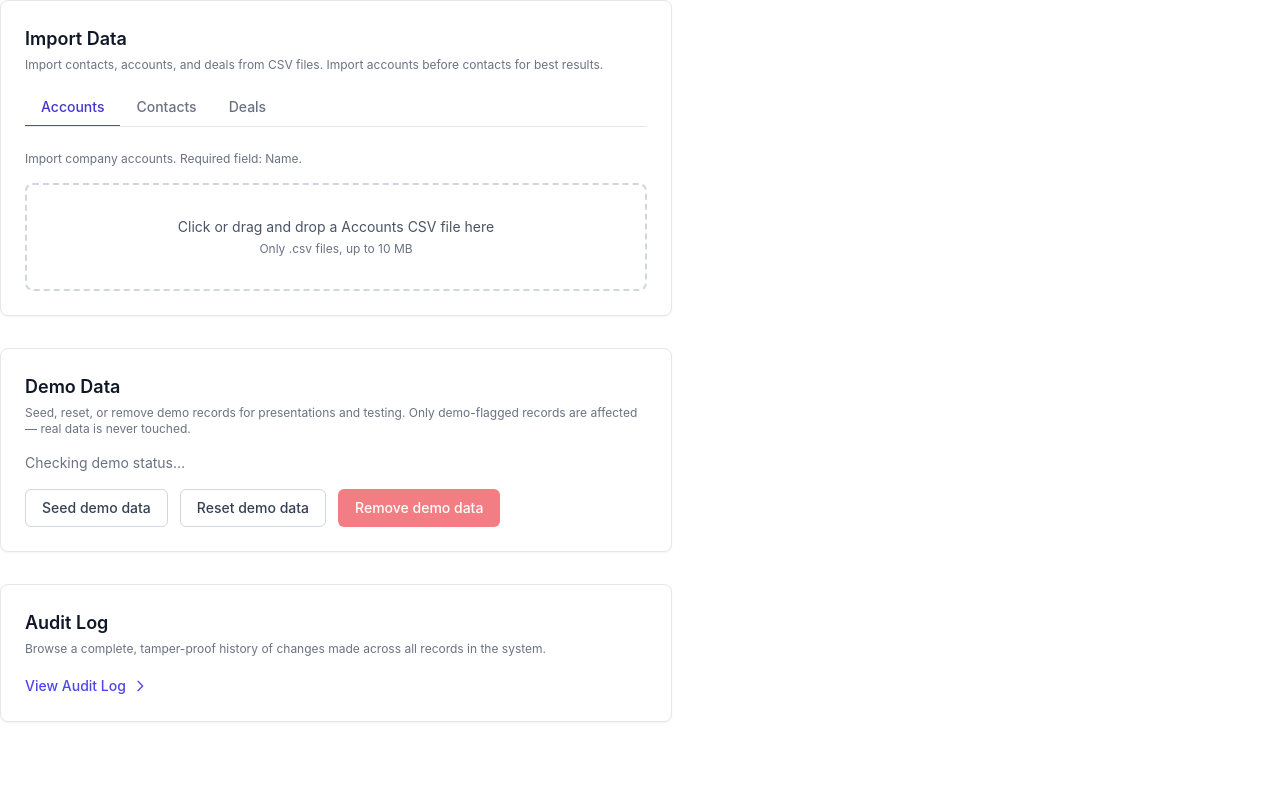
Test: DataSettings — demo data › opens confirm dialog when Seed is clicked
The width and height of the screenshot is (1280, 800).
Step 1. Click the button with test id "demo-seed-button" → (96, 508), box top-left (25, 489), bottom-right (168, 527)
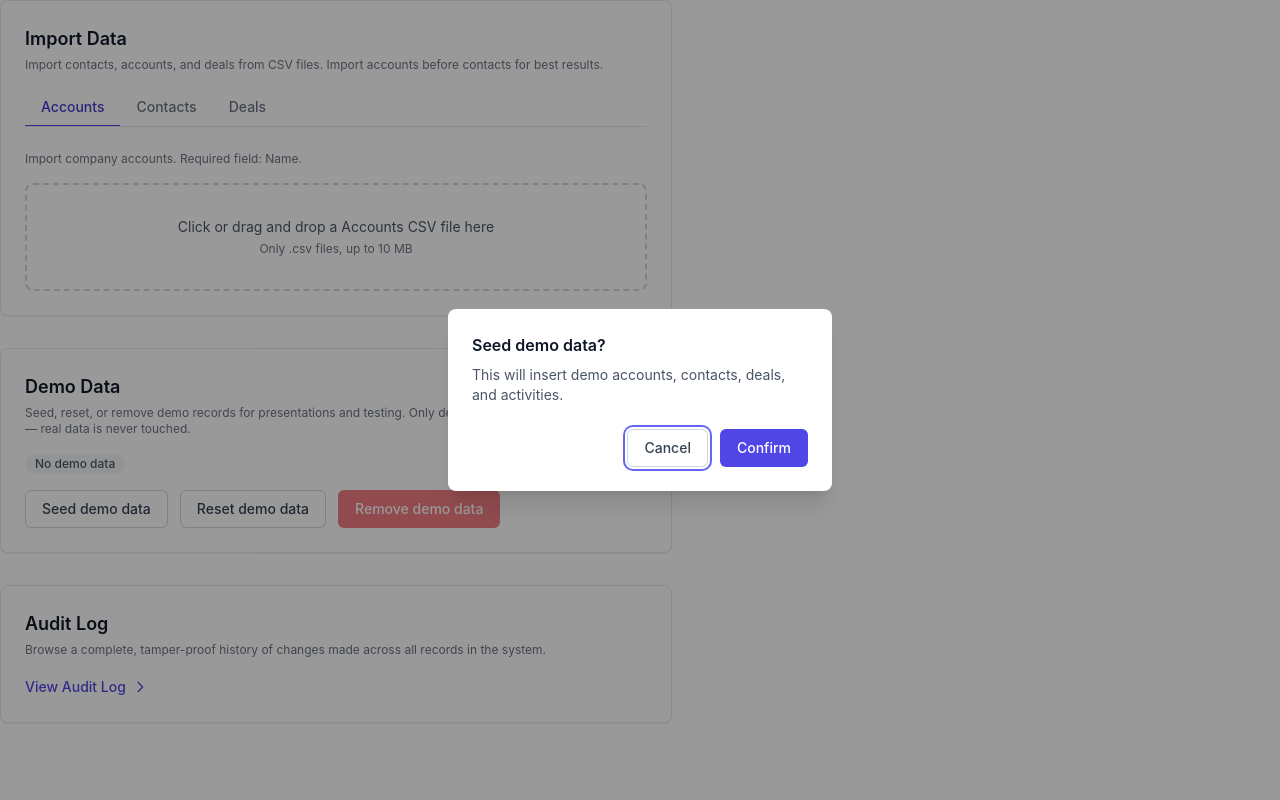
Check: the dialog with test id "demo-confirm-dialog" is shown
